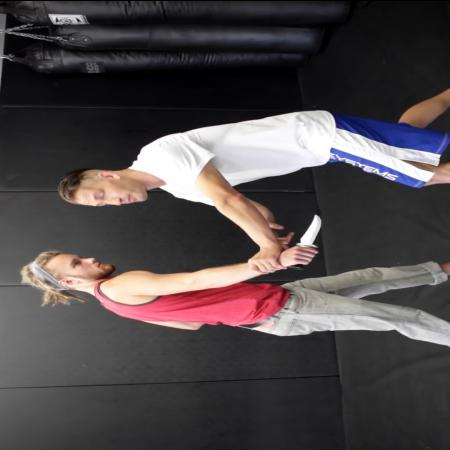long weapon: (288, 209, 328, 271)
